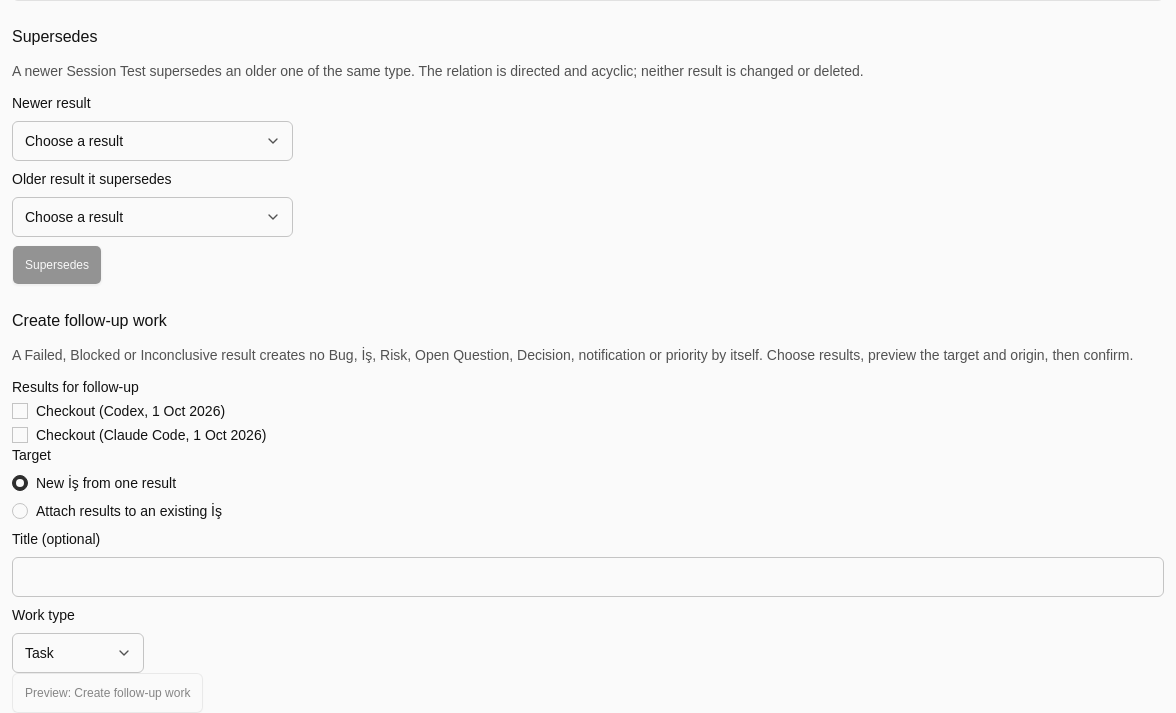
Test case: attaching to an existing İş accepts the visible id or key
(page scrolled)
Click the radio button next to "Attach results to an existing İş": (20, 511) x1=12 y1=503 x2=28 y2=519
(page scrolled)
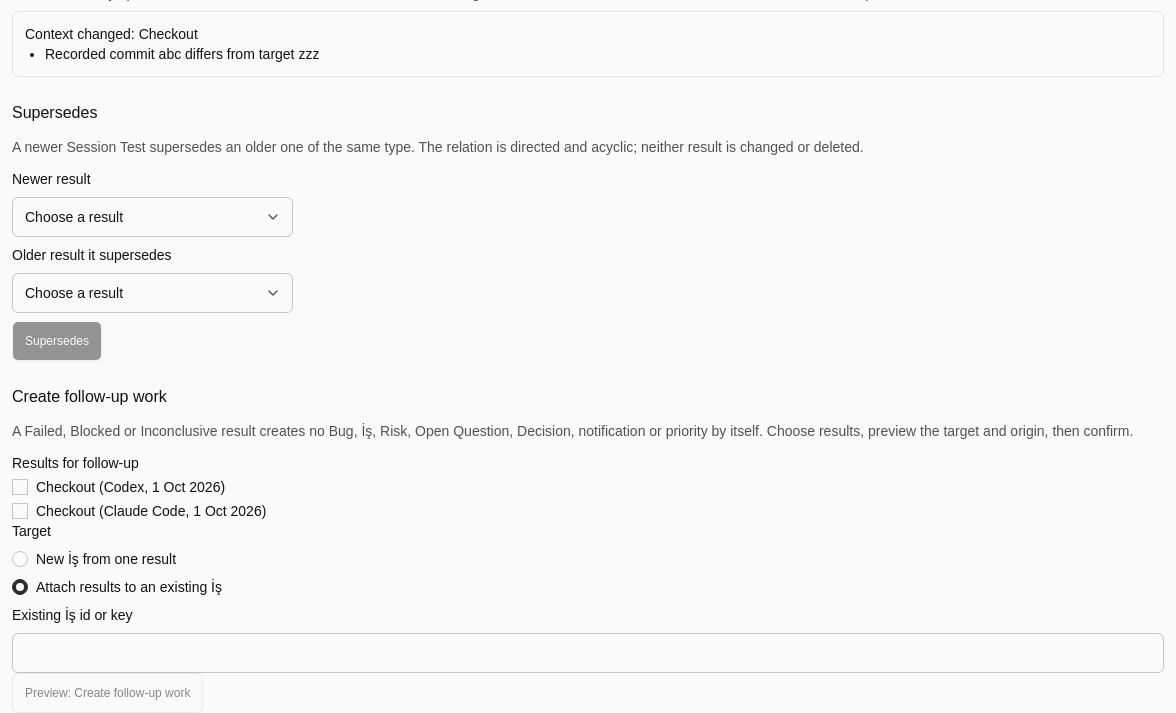
Expected: the text "Attach results to an existing İş" is shown, x1=12 y1=579 x2=222 y2=595
Now the text "Existing İş id or key" is shown, box x1=12 y1=607 x2=133 y2=623
